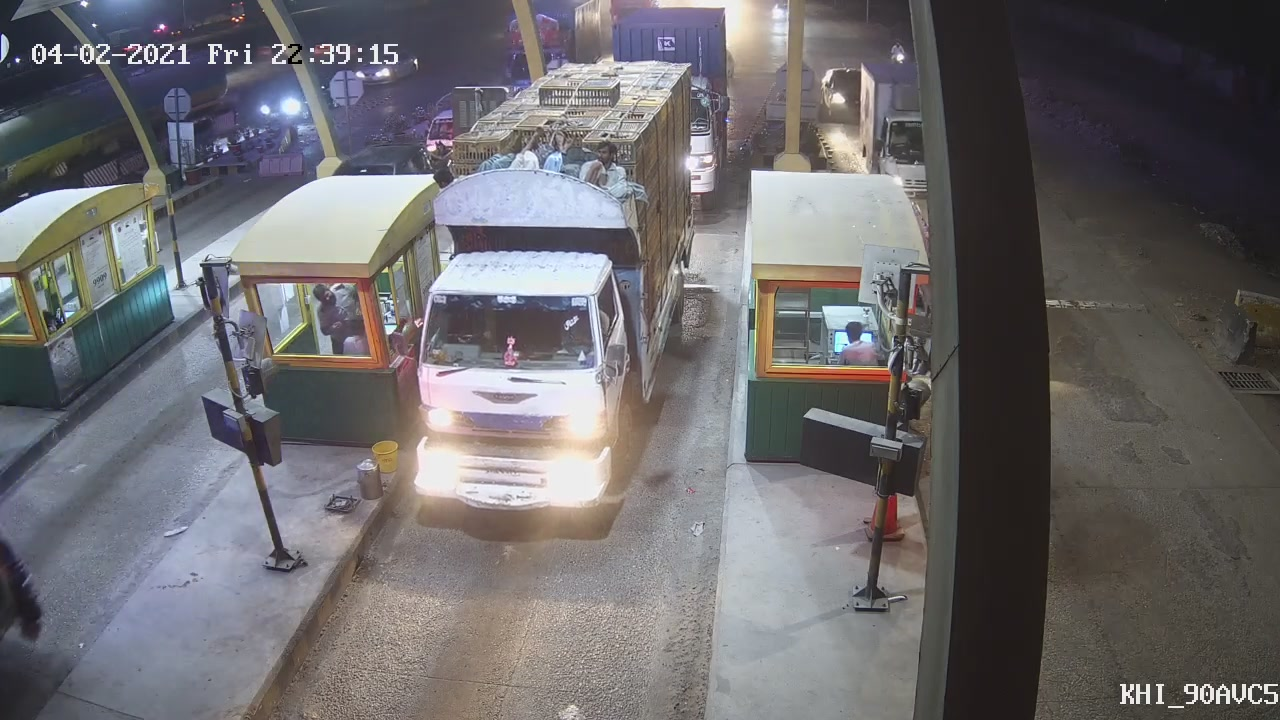F2: (410, 130, 674, 522)
